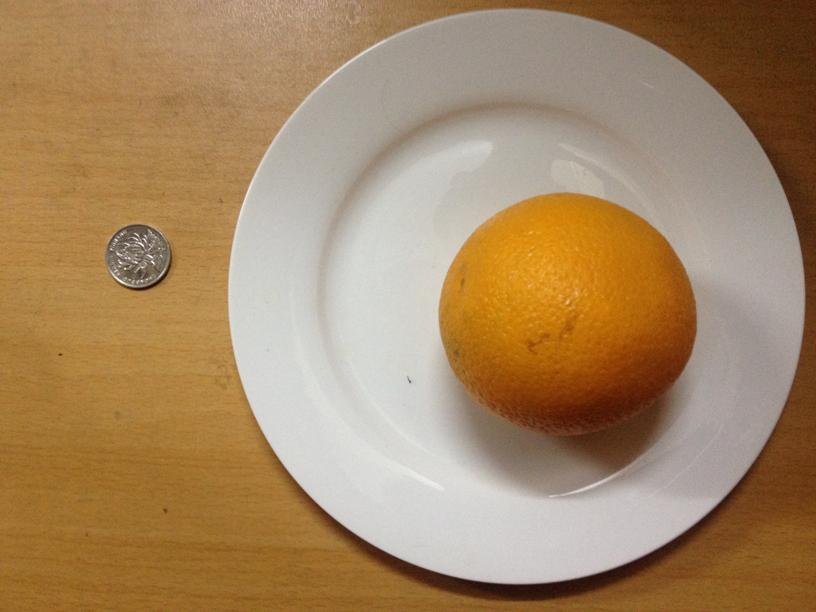coin: (106, 225, 172, 291)
orange: (443, 192, 695, 441)
